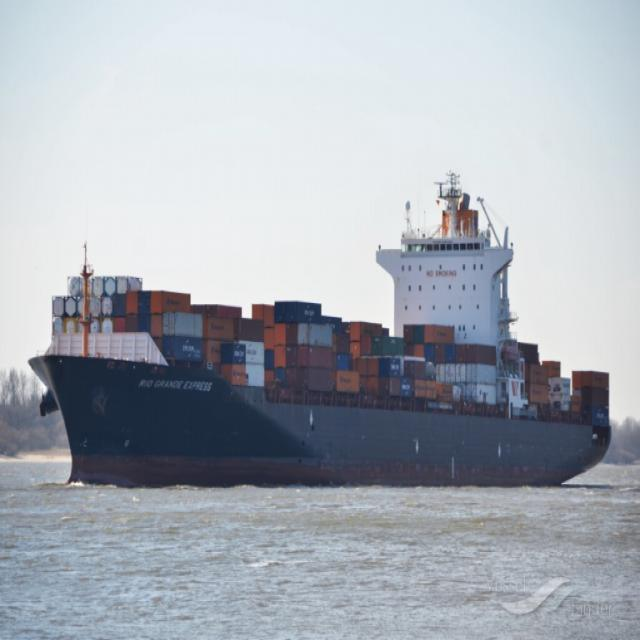Container Ship: (30, 174, 610, 489)
